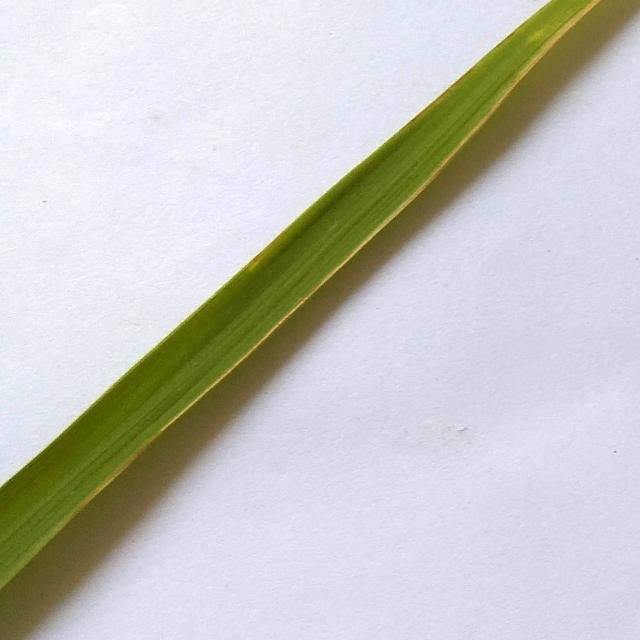Rice_Healthy: (0, 0, 596, 588)
